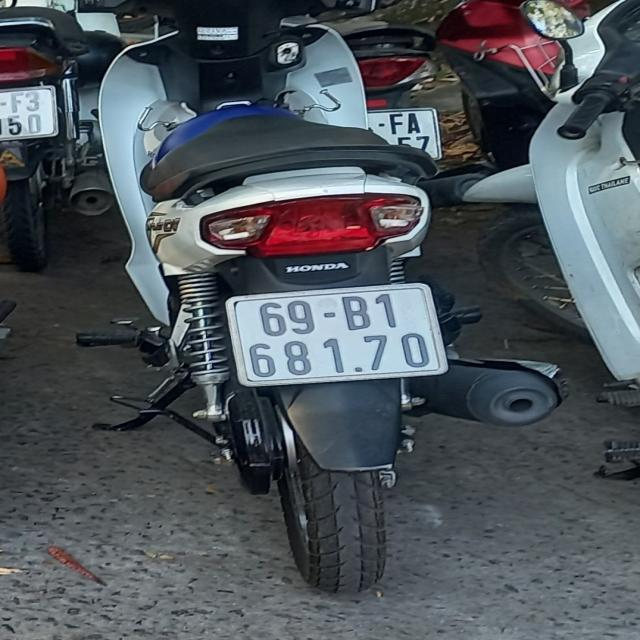0: (400, 330, 433, 370)
1: (371, 291, 398, 330), (322, 336, 346, 374)
6: (246, 340, 280, 379), (258, 299, 288, 338)
7: (362, 335, 392, 372)
8: (283, 339, 315, 378)
9: (286, 298, 314, 336)
B: (339, 294, 370, 334)
